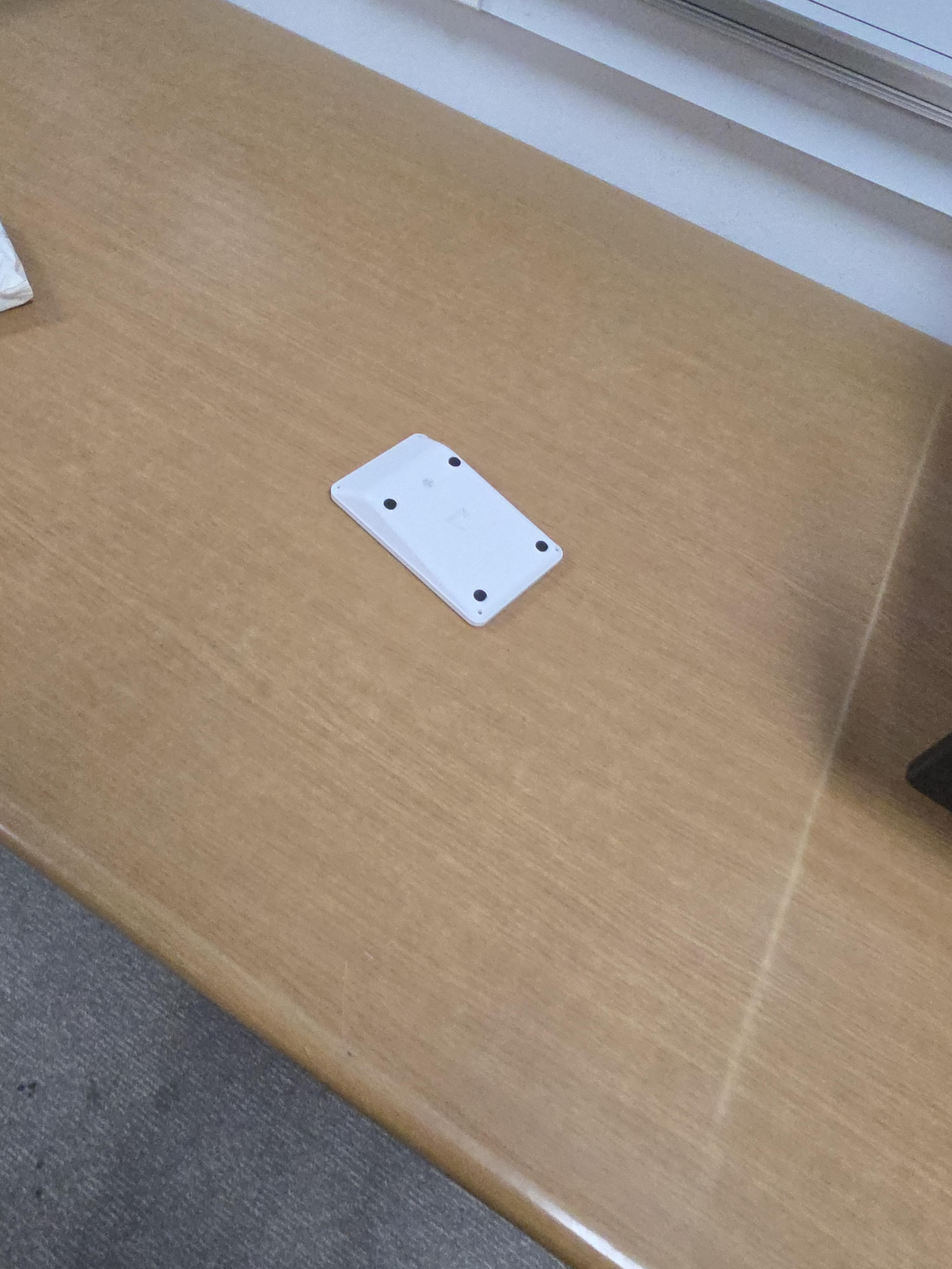calculator: (330, 432, 564, 627)
tissue: (0, 221, 33, 312)
